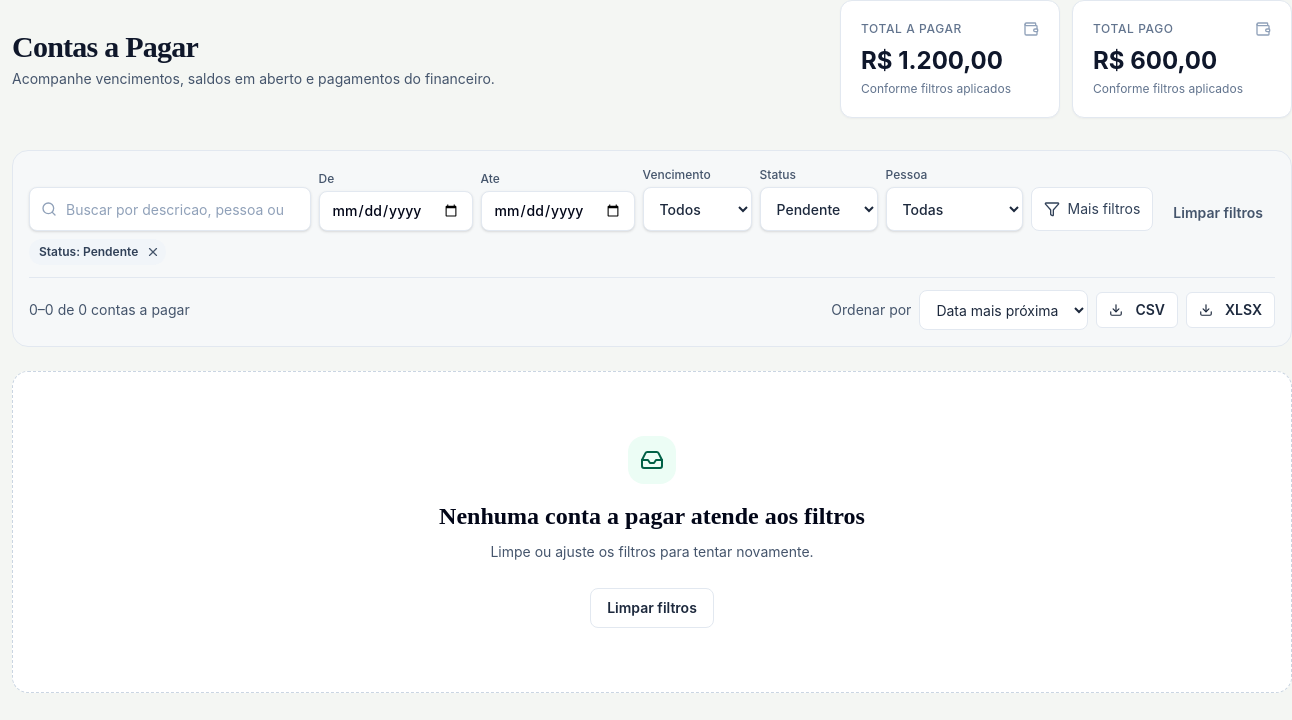
it: PayablesPage › distingue filtered empty e oferece limpar filtros
Expected: the heading "Nenhuma conta a pagar atende aos filtros" is shown, [439,503,865,529]
Click the button "Limpar filtros" below "Nenhuma conta a pagar atende aos filtros": x=652, y=608 [590,588,714,628]
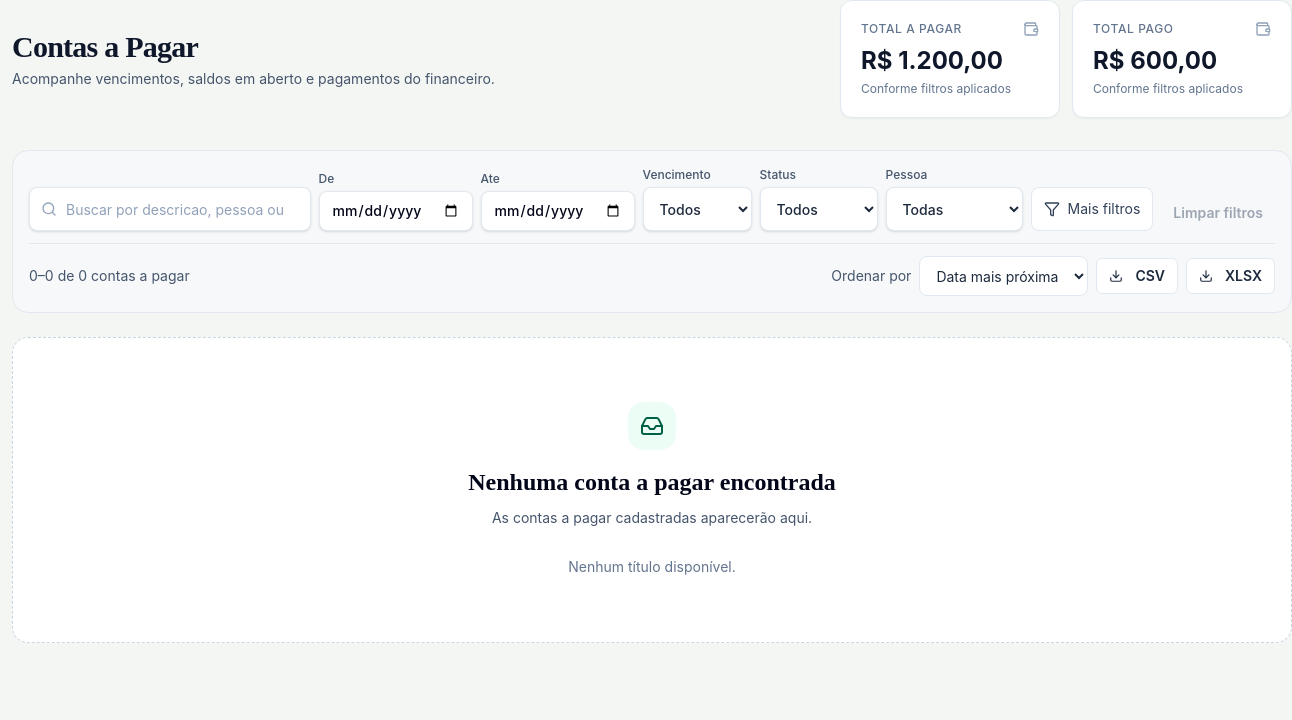
Now the heading "Nenhuma conta a pagar atende aos filtros" is gone
